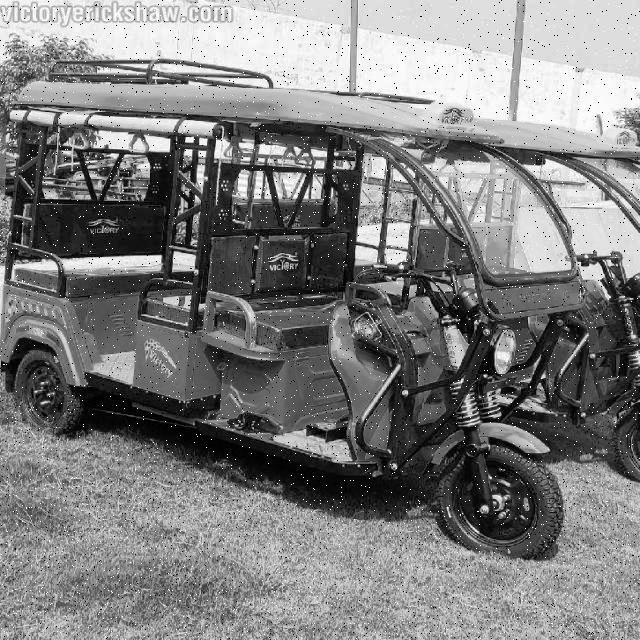Toto: (0, 66, 565, 560)
